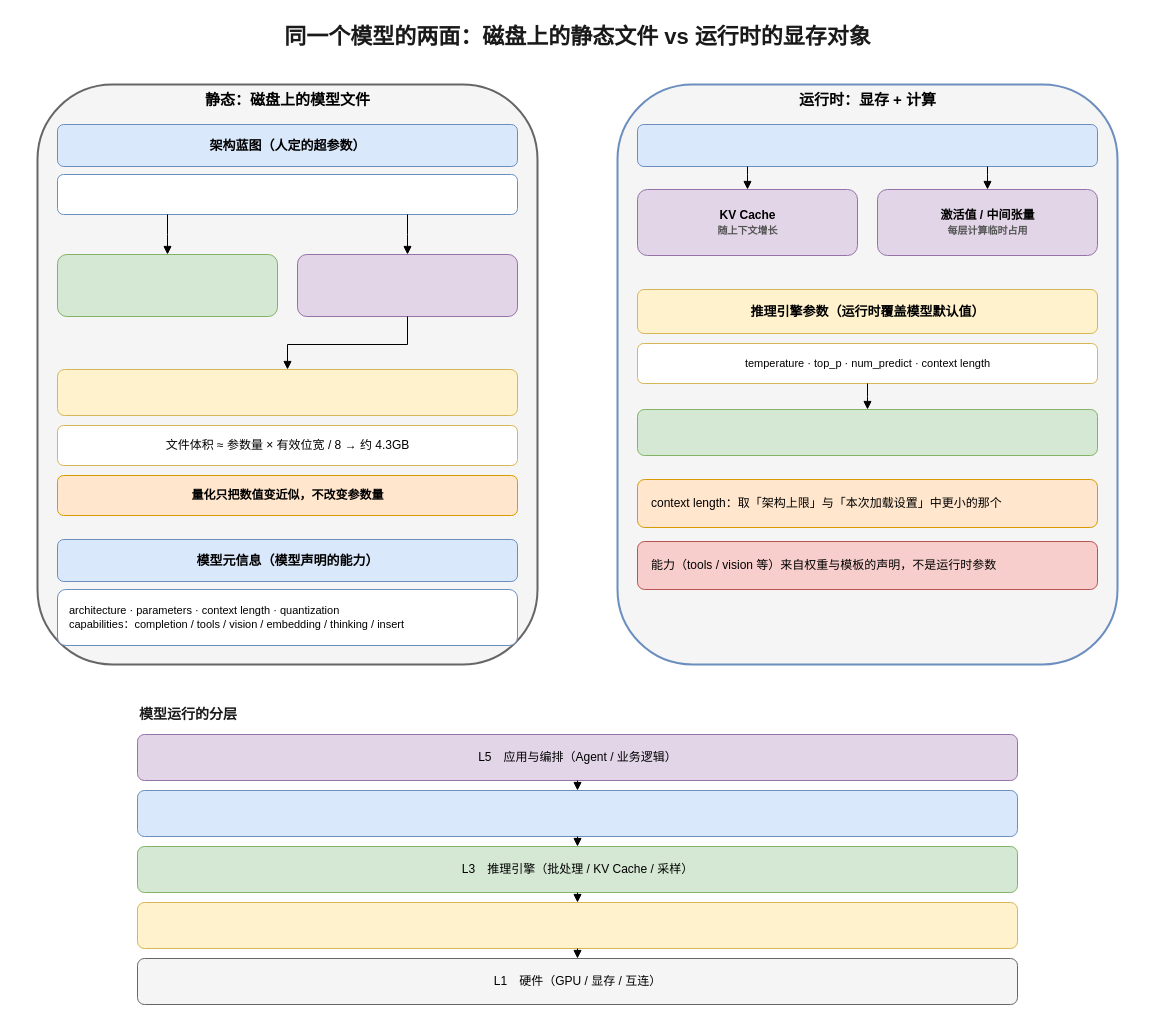
This 1154x1022 diagram has some shape labels left out. The centre of each missing label's shape, as x and y in pixels:
"embedding 3584 · 层数 28 · KV 头 4 · 词表 152K" belongs at (287,194).
"L2 算子与加速（矩阵运算 / Attention 加速）" belongs at (577,925).
"L4 服务与 API（HTTP 接口 / 请求校验 / 流式输出）" belongs at (577,813).
"加载权重到显存" belongs at (867,145).
"参数量 7.6B 有多少个数字（度量）" belongs at (167,285).
"权重张量 数值是多少（内容）" belongs at (407,285).
"采样 → 生成 token → 追加到序列" belongs at (867,432).
"量化 Q4_K_M：每个权重用约 4 bit 存储" belongs at (287,392).
